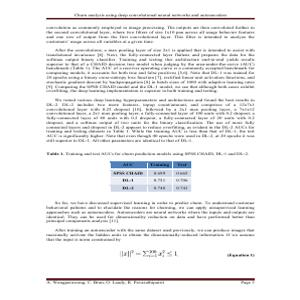table: (102, 159, 201, 194)
text: (41, 24, 260, 145), (42, 198, 263, 244), (44, 150, 253, 156)
